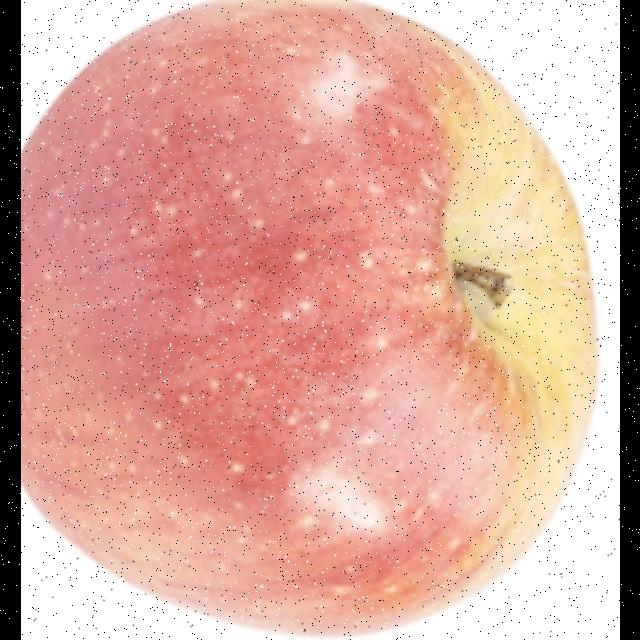Apel Segar: (20, 0, 601, 640)
